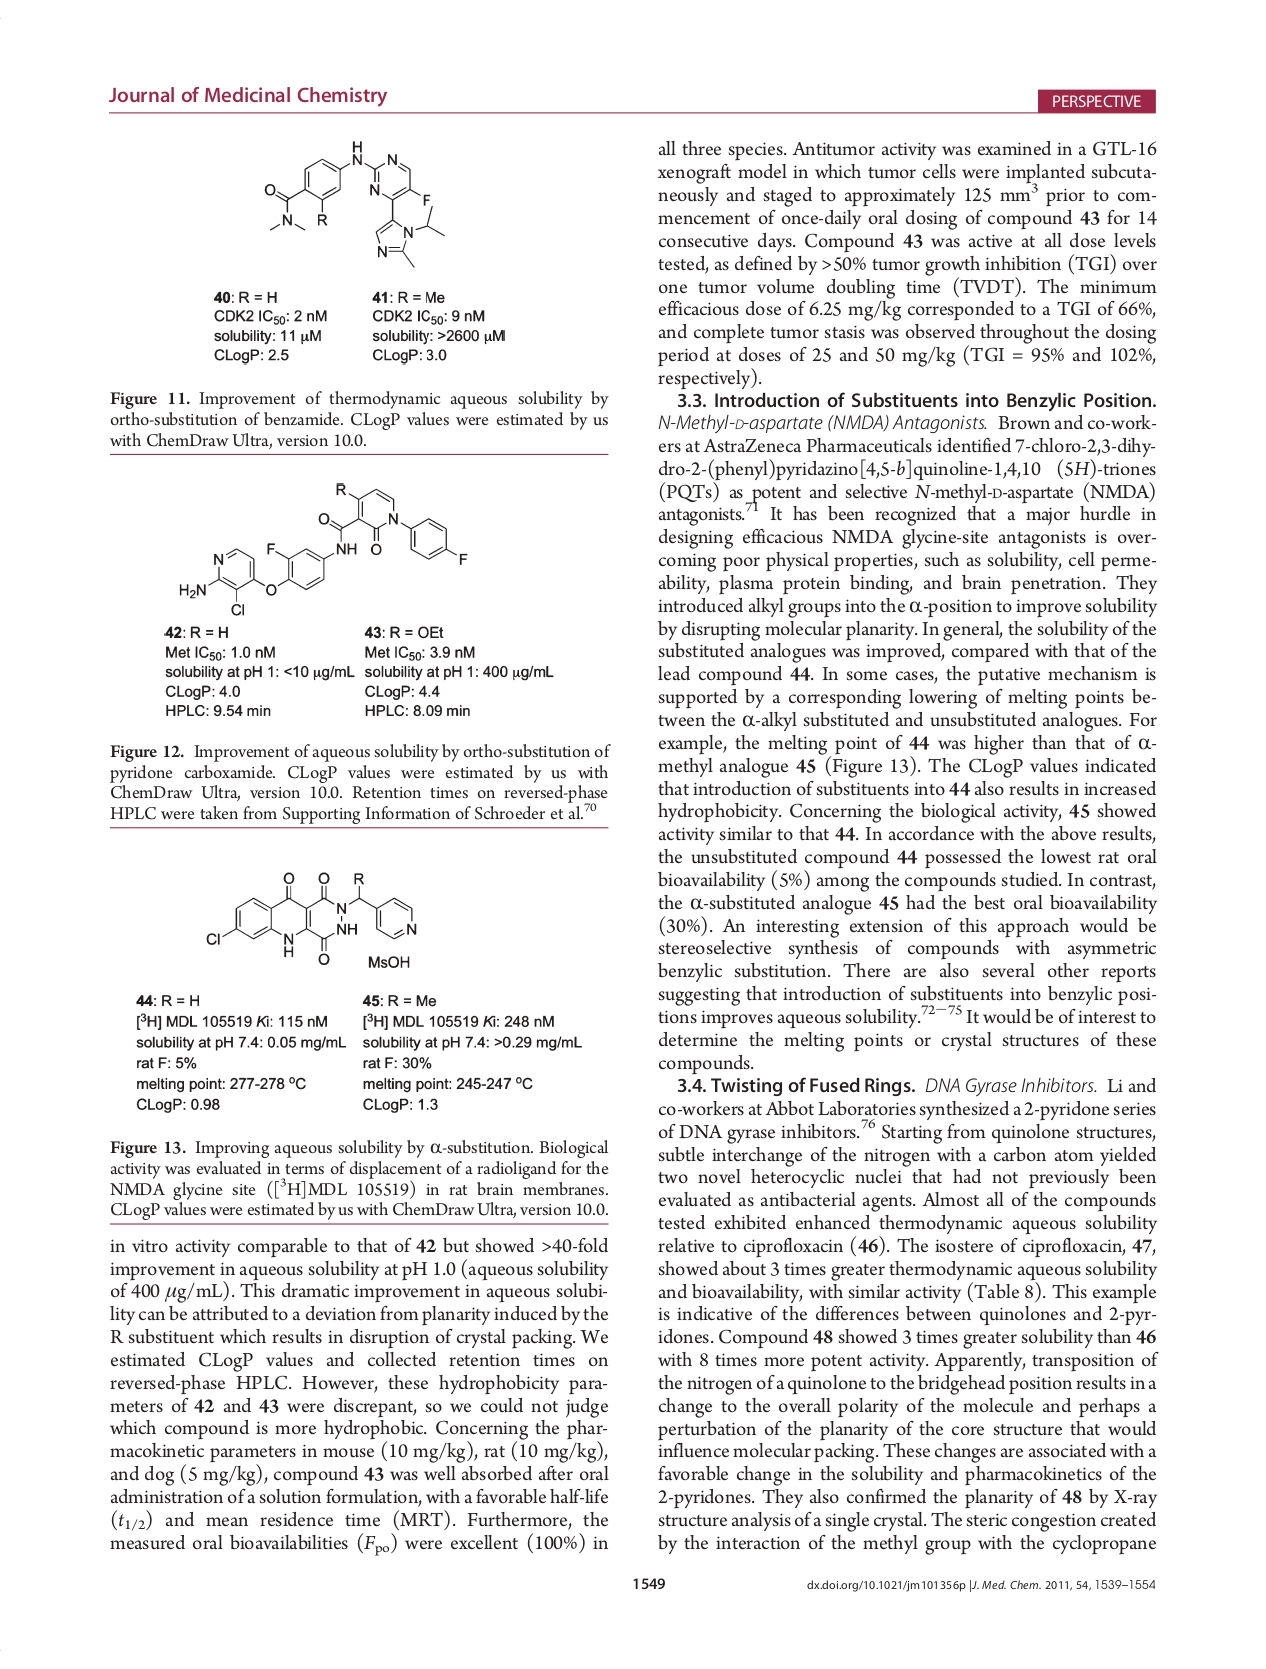exist_molecular: (172, 477, 469, 618), (257, 134, 453, 270), (199, 867, 420, 967)
